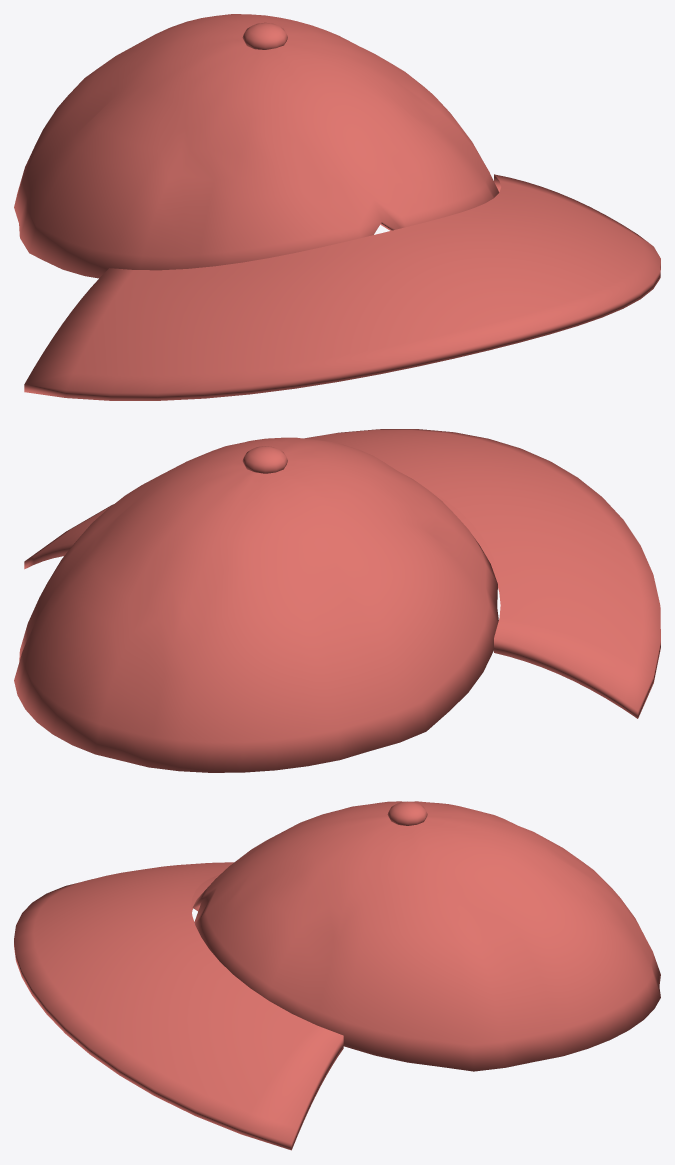
The model's file is Char2_Cap.fbx.
The picture shows the model from 3 angles, top to bottom: view 1: azimuth 30°, elevation 25°; view 2: azimuth 150°, elevation 25°; view 3: azimuth 270°, elevation 25°; orthographic projection. The views are drawn at different scales.
Parts seen in each view (by area): view 1: Char2_Cap; view 2: Char2_Cap; view 3: Char2_Cap.
Part boxes in pixels (x1,y1,x2,y2): Char2_Cap: [14, 14, 660, 400]; Char2_Cap: [14, 429, 660, 772]; Char2_Cap: [14, 801, 660, 1150].
Size of the model in its own units: 0.2641 by 0.0999 by 0.2738.
